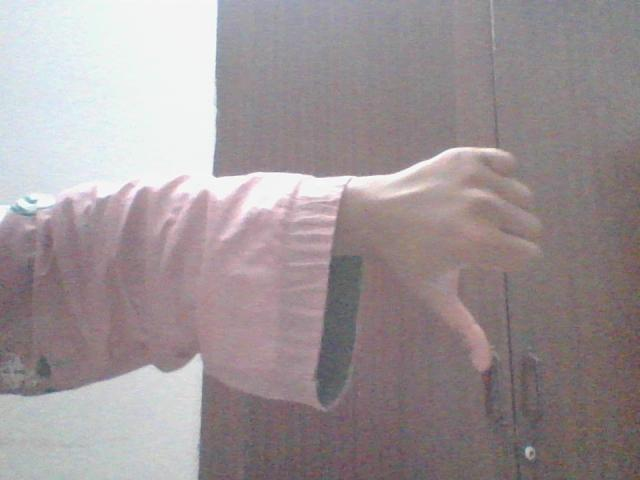thumbs-down: (396, 147, 543, 386)
